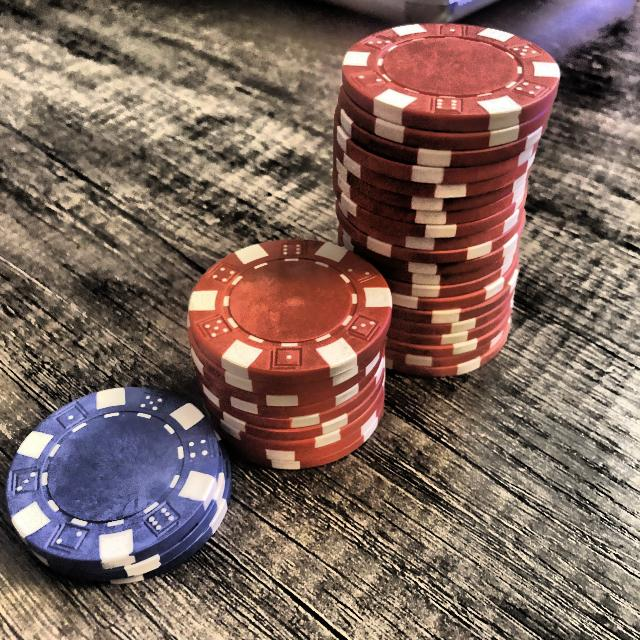Chip: (332, 21, 562, 380), (187, 238, 394, 472), (6, 384, 231, 585)
